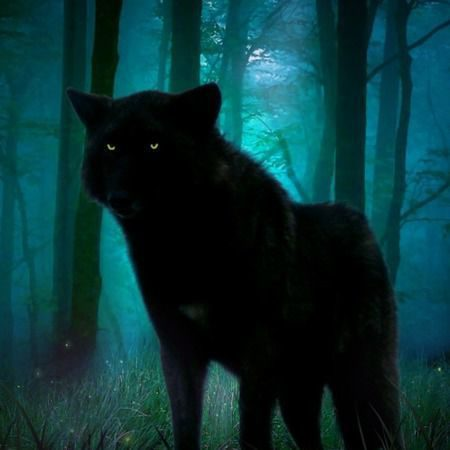Lobo: (59, 78, 406, 418)
